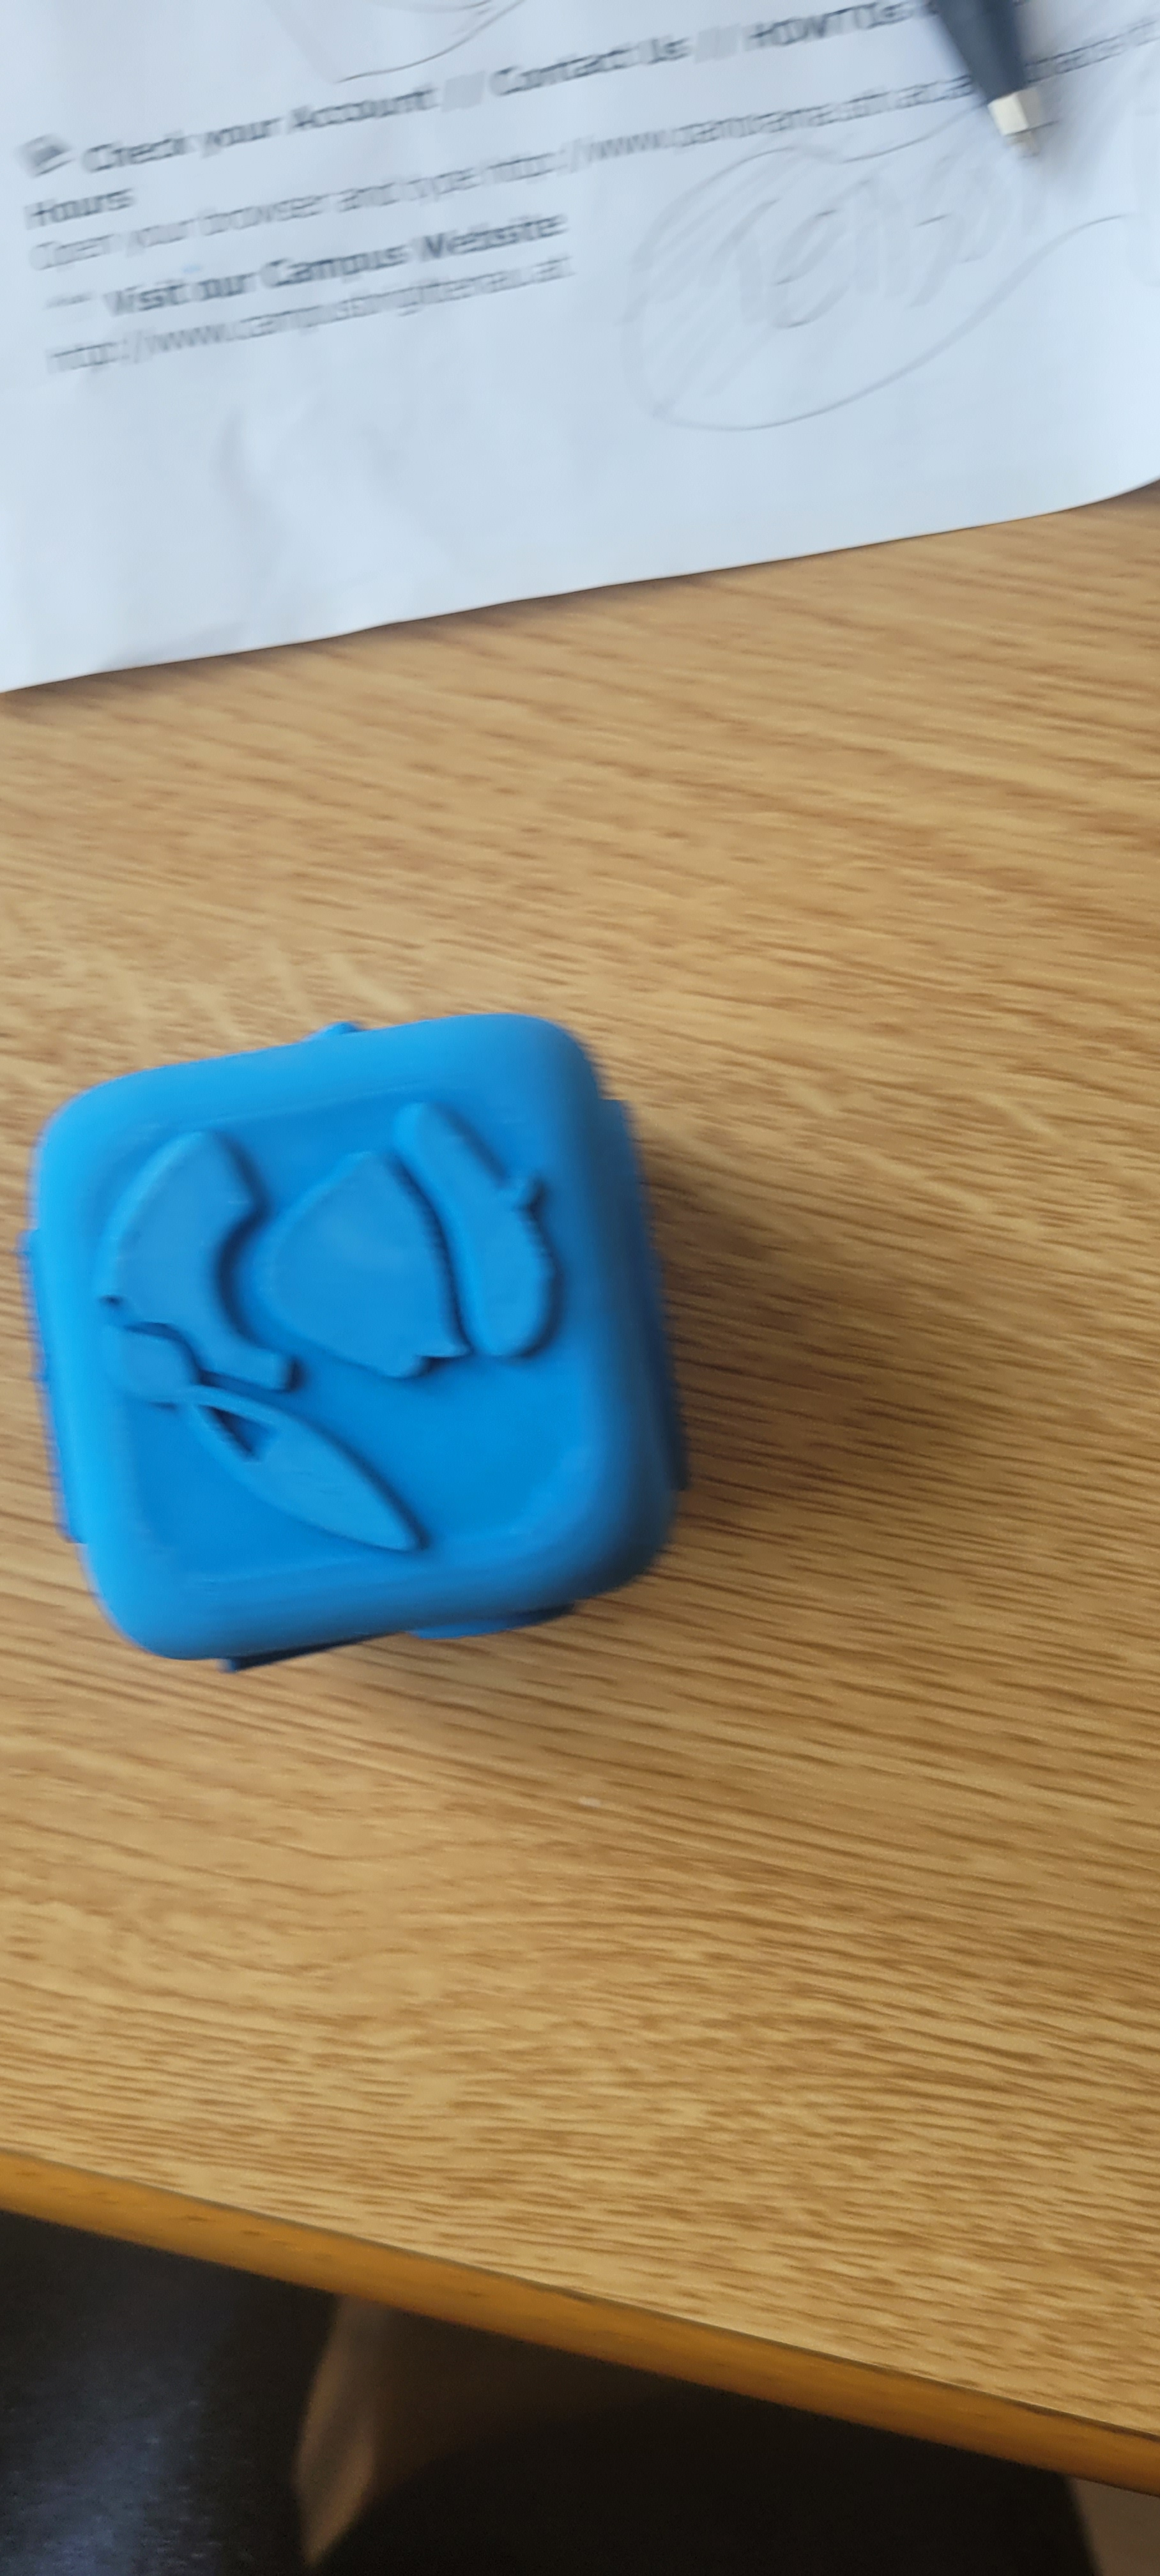Artist_Info: (17, 949, 646, 1640)
